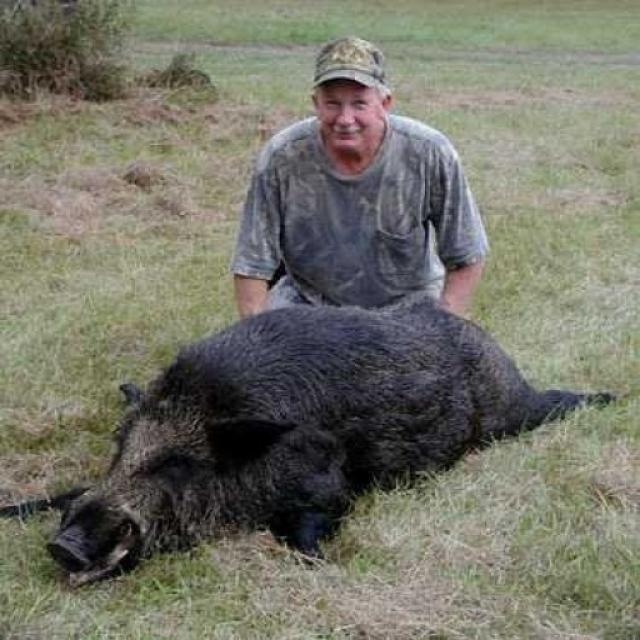pig: (49, 250, 554, 593)
